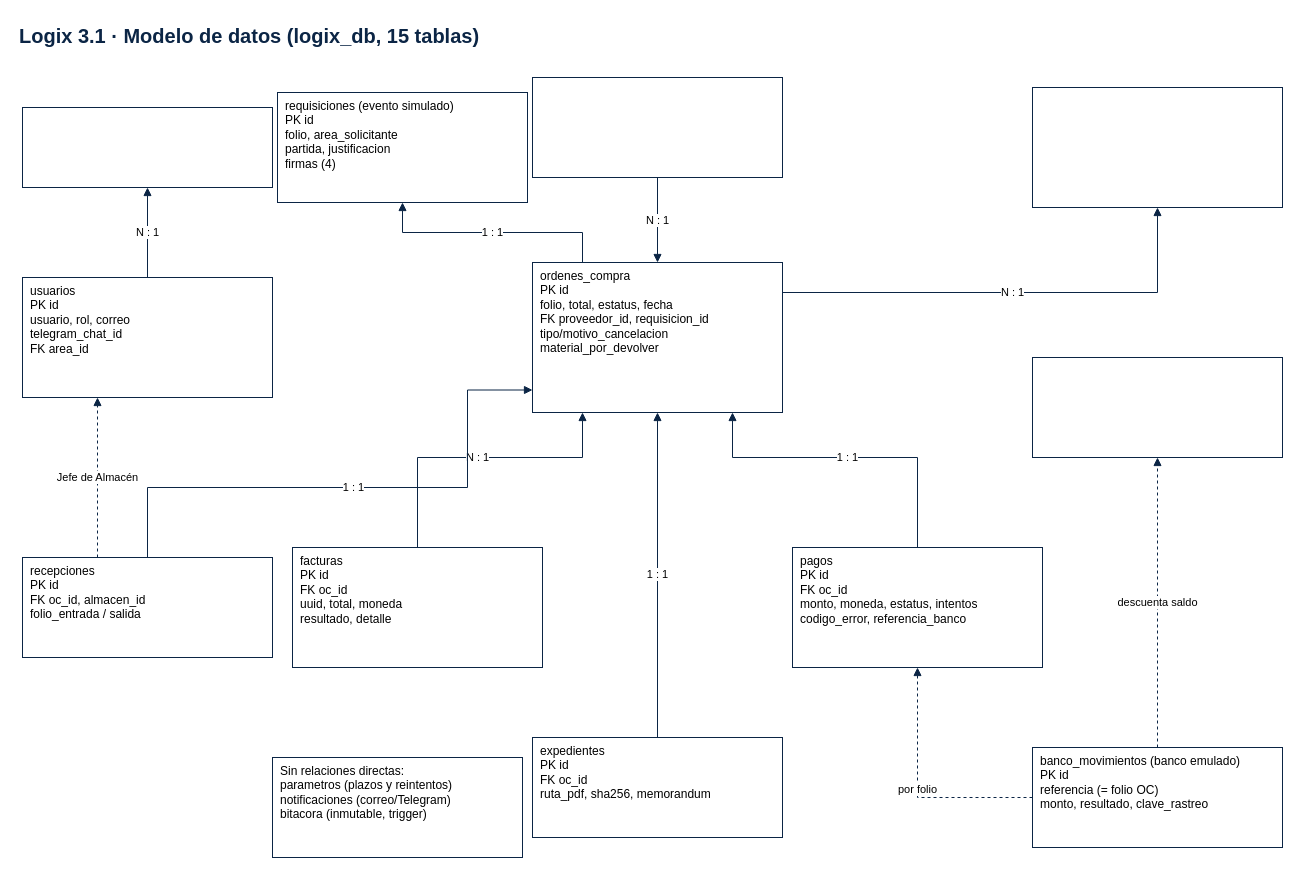
Image size: 1314x875. Some labels were removed from this diagram. The shapes that lost their labels are listed below. From the top down, each one's centre as x and y in pixels, then its label:
At (x=147, y=147): "areas PK id nombre".
At (x=657, y=127): "oc_detalle PK id FK oc_id descripcion, cantidad, precio".
At (x=1157, y=147): "proveedores (fijos) PK id razon_social, rfc, correo clabe telegram_chat_id".
At (x=1157, y=407): "banco_cuenta (banco emulado) PK id saldo, limite_operacion falla_simulada".
